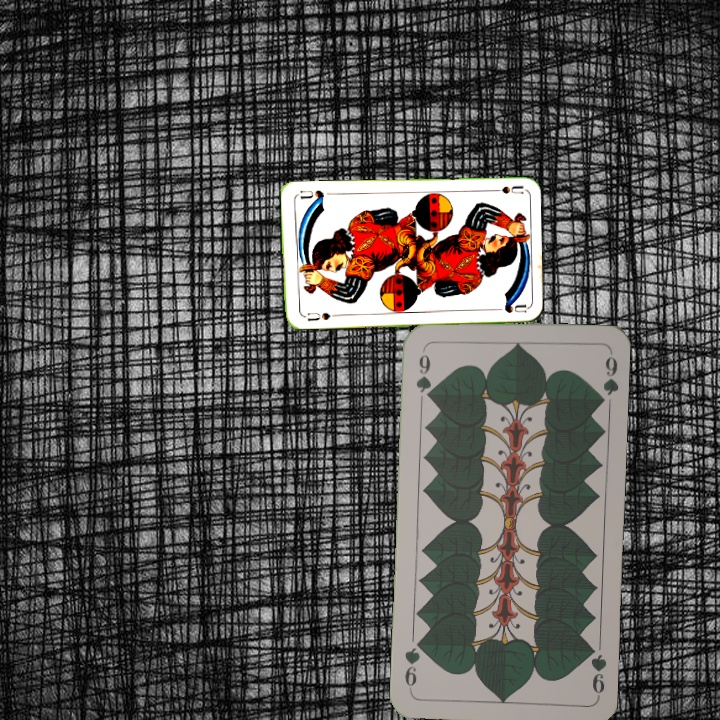G9: (584, 639, 609, 699), (411, 343, 434, 403)
SU: (484, 182, 524, 196), (298, 308, 332, 324)
